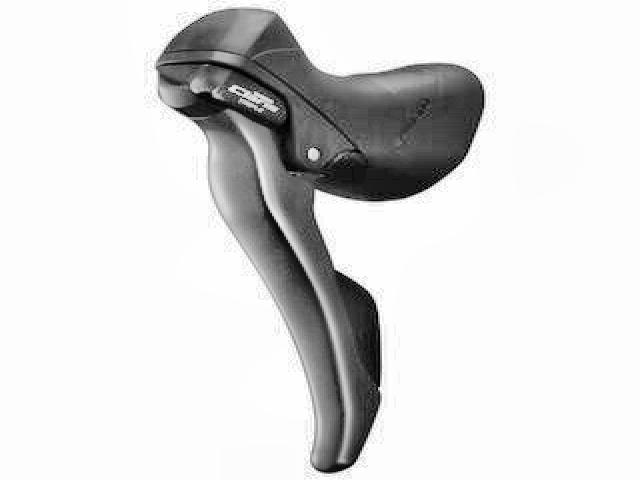sti_shifter: (148, 5, 489, 471)
